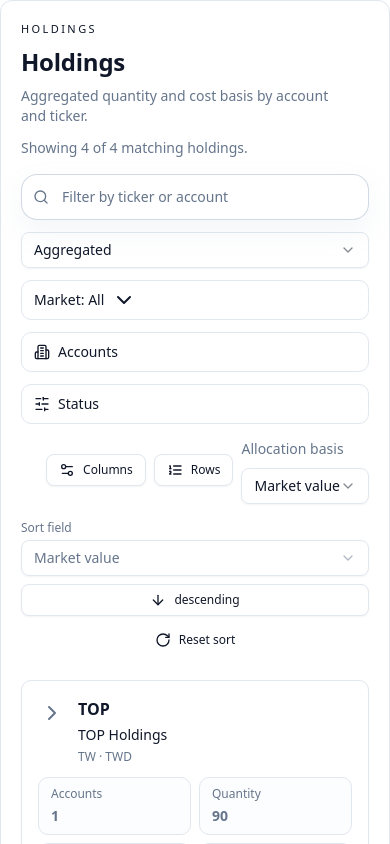
Scenario: HoldingsTable sorting surface contract › offers mobile Custom activation, preserves rowOrder, and restores a text field's ascending default
This screenshot has width=390, height=844.
expect the button with test id "holdings-mobile-sort-direction" is shown: met, box [21,584,369,616]
Step 1. Click the dropdown with test id "holdings-mobile-sort-field" → {"x": 77, "y": 557}, box [21,540,369,576]
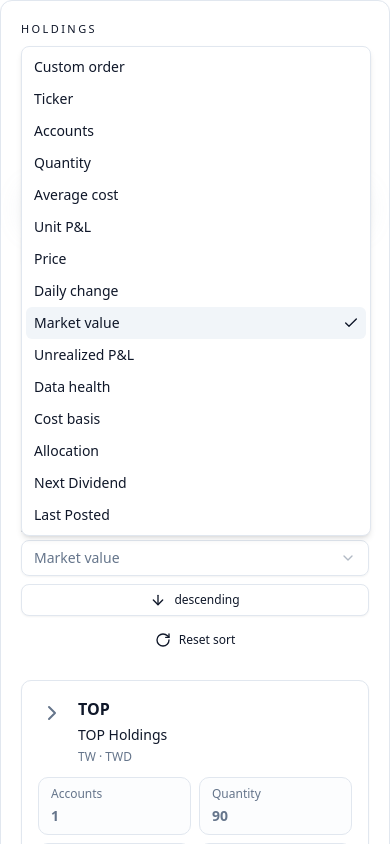
expect the option "Custom order" is shown: met
Step 2. Click the option "Custom order" → {"x": 79, "y": 66}, box [34,57,125,76]
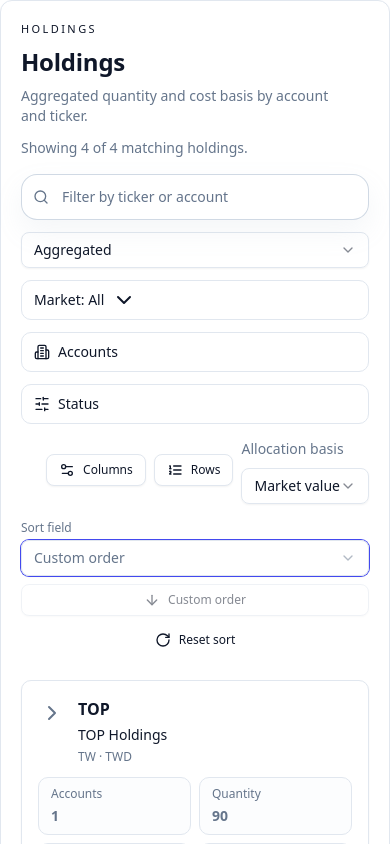
expect the button with test id "holdings-mobile-sort-direction" is disabled: met, box [21,584,369,616]
Step 3. Click the dropdown with test id "holdings-mobile-sort-field" → {"x": 79, "y": 557}, box [21,540,369,576]
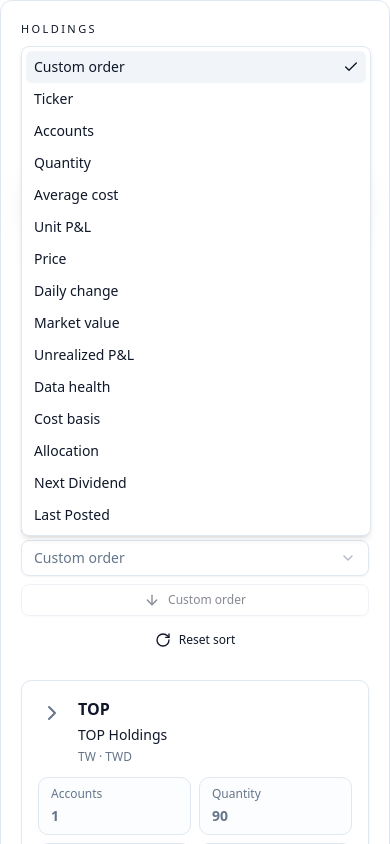
expect the option "Ticker" is shown: met
Step 4. Click the option "Ticker" → {"x": 54, "y": 98}, box [34,89,73,108]
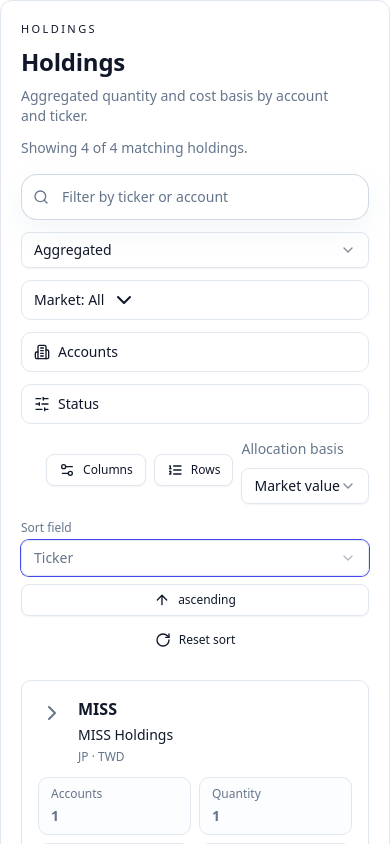
expect the button with test id "holdings-mobile-sort-direction" is enabled: met, box [21,584,369,616]
